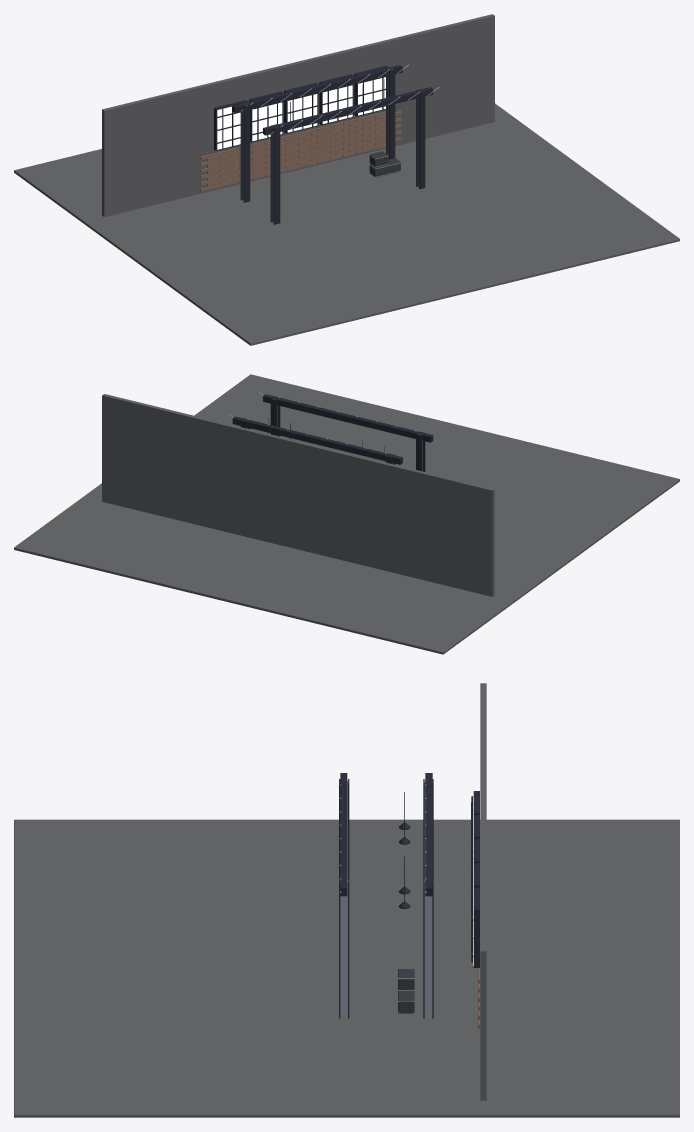
The model's file is warehouse-shell.fbx.
The picture shows the model from 3 angles, top to bottom: view 1: azimuth 30°, elevation 25°; view 2: azimuth 150°, elevation 25°; view 3: azimuth 270°, elevation 25°; orthographic projection. The views are drawn at different scales.
Parts seen in each view (by area): view 1: WarehouseShell; view 2: WarehouseShell; view 3: WarehouseShell.
Part boxes in pixels (x1,y1,x2,y2): WarehouseShell: [14, 14, 679, 345]; WarehouseShell: [14, 374, 679, 654]; WarehouseShell: [14, 683, 679, 1117].
Size of the model in its own units: 22 by 21 by 5.33.
